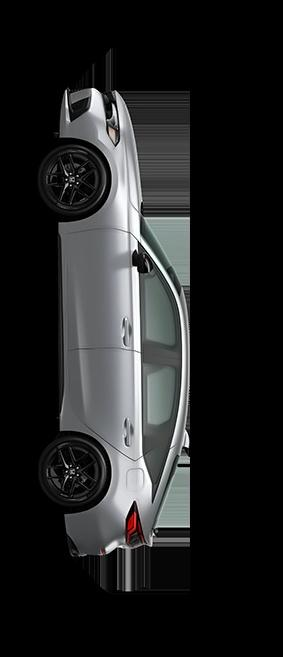Car hood: (119, 98, 143, 210)
Fender - -F-L-: (53, 138, 138, 249)
Fender - -R-L-: (58, 421, 175, 513)
Front bumper: (59, 80, 109, 163)
Headlight - -L-: (99, 85, 124, 147)
Passenger-s door - -F-L-: (39, 225, 179, 357)
Passenger-s door - -R-L-: (39, 347, 193, 464)
Rear bumper: (41, 495, 118, 569)
Rear light - -L-: (121, 497, 150, 554)
Side bumper - -L-: (41, 219, 94, 437)
Side mirror - -L-: (121, 250, 157, 277)
